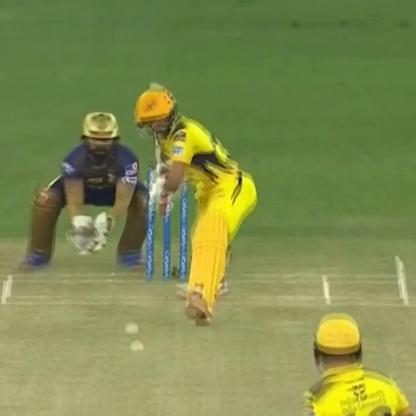ball: (118, 320, 144, 336), (127, 338, 149, 354)
bat: (140, 76, 178, 202)
pitch: (4, 262, 416, 410)
